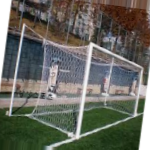goals: (34, 38, 144, 137)
